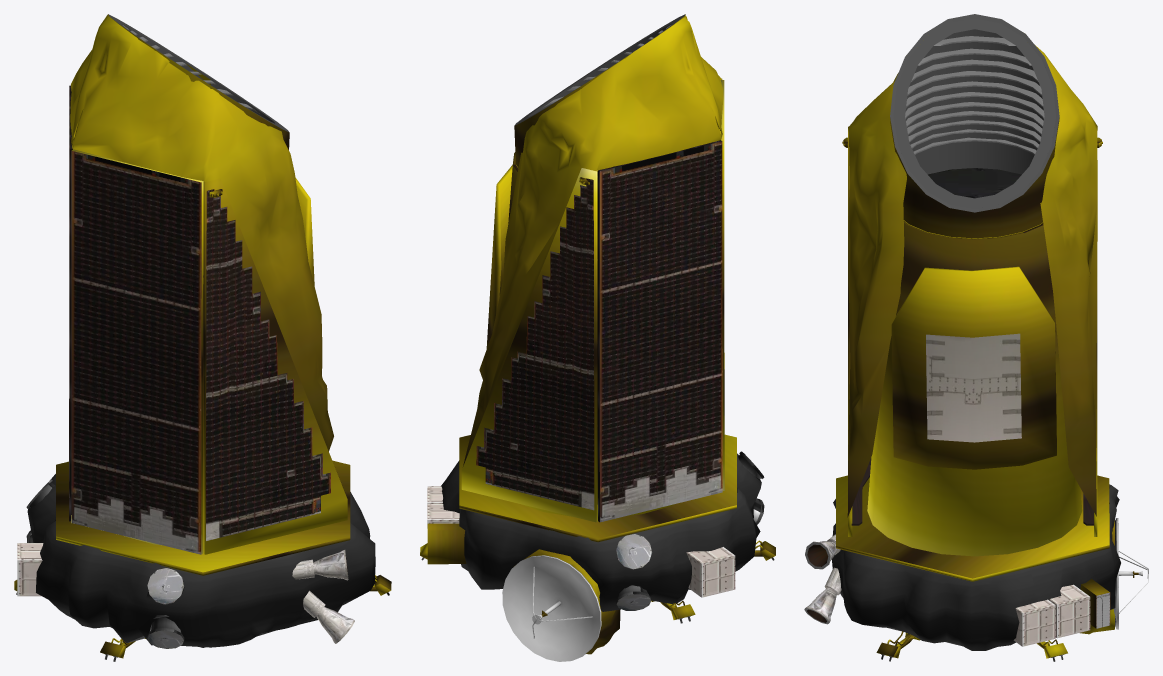
File: kepler.glb
The picture shows the model from 3 angles, left to right: view 1: azimuth 30°, elevation 25°; view 2: azimuth 150°, elevation 25°; view 3: azimuth 270°, elevation 25°; orthographic projection. The views are drawn at different scales.
Parts seen in each view (by area): view 1: tex_01.001, foil_gold, foil_silver; view 2: tex_01.001, foil_gold, foil_silver, dish_AO; view 3: foil_gold, tex_01.001, foil_silver, dish_AO.
Part boxes in pixels (x1,y1,x2,y2): tex_01.001: (17, 14, 354, 648); foil_gold: (14, 14, 391, 658); foil_silver: (16, 474, 389, 661); tex_01.001: (427, 14, 735, 610); foil_gold: (420, 14, 775, 654); foil_silver: (421, 451, 774, 623); dish_AO: (502, 555, 601, 661); foil_gold: (836, 45, 1138, 658); tex_01.001: (804, 14, 1110, 646); foil_silver: (832, 484, 1120, 661); dish_AO: (1113, 518, 1148, 629).
Size of the model in its own units: 2.65 by 5.01 by 2.66.
Materials: 5 (5 with a texture image).
